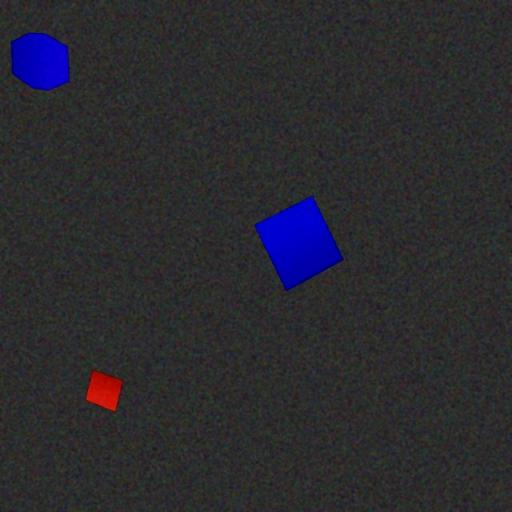BLUE_SQUARE: (254, 195, 344, 292)
RED_SQUARE: (84, 370, 124, 412)
